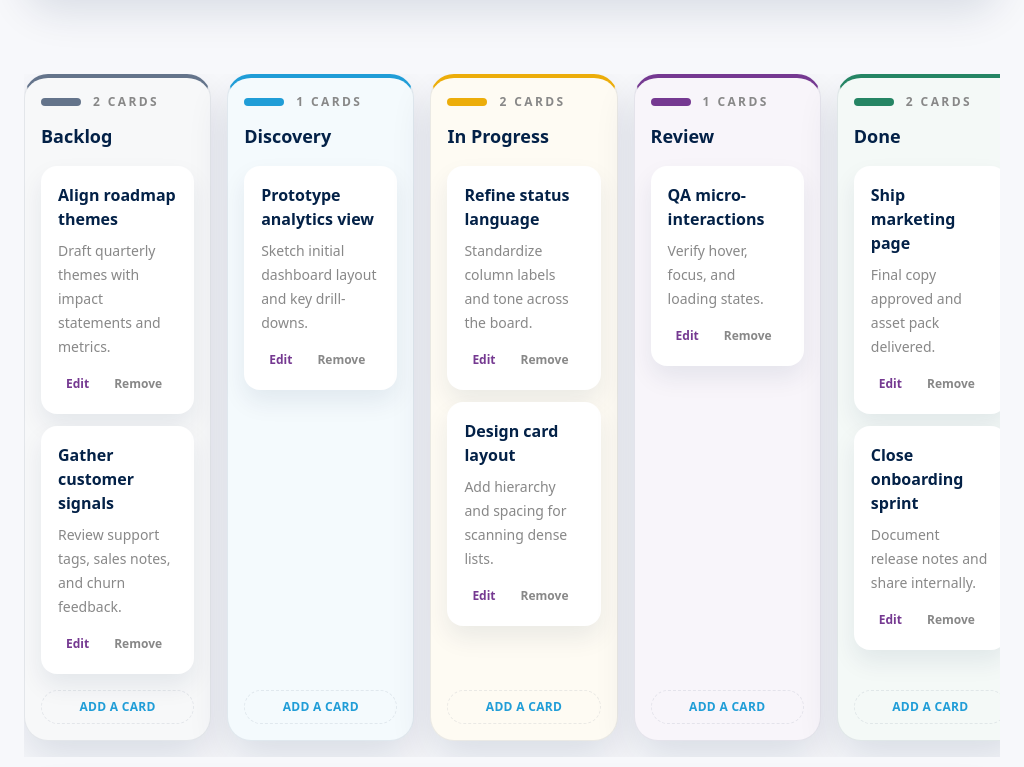
Test: persistent KanbanBoard › locks mutations until reload succeeds after an uncertain save
(page scrolled)
Click the button with aria-label "Delete Align roadmap themes" at [138, 384], box [105,371,171,397]
(page scrolled)
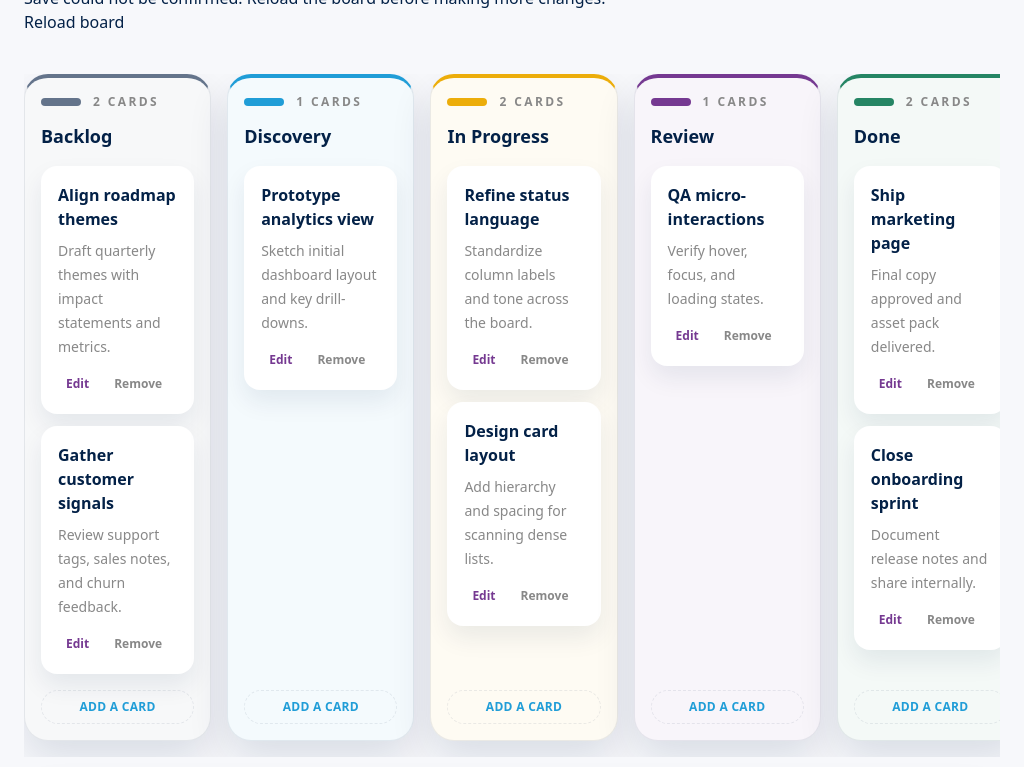
Result: the button "Reload board" is shown
Click the button "Reload board" at [74, 22], box [24,10,124,34]
(page scrolled)
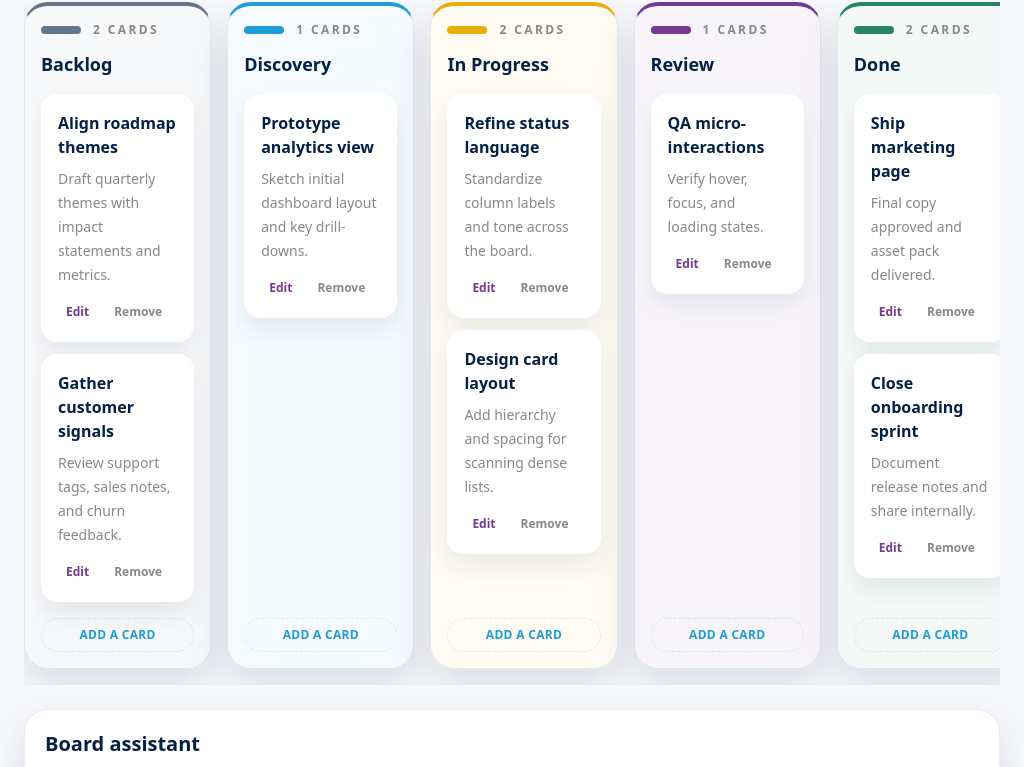
Result: the button with aria-label "Delete Align roadmap themes" is enabled at [105,299,171,325]
